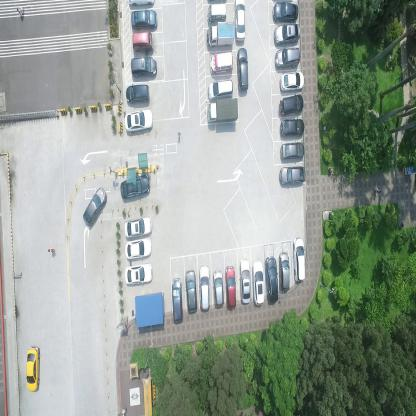car: (82, 184, 107, 226), (207, 97, 239, 123), (120, 173, 151, 199), (124, 214, 153, 239), (125, 109, 153, 134), (26, 344, 40, 392), (265, 256, 279, 304), (206, 23, 234, 46), (125, 261, 153, 284), (125, 235, 153, 258), (292, 236, 306, 282), (207, 77, 234, 100), (273, 22, 300, 44), (185, 268, 198, 313), (274, 46, 300, 68), (278, 164, 306, 184), (279, 93, 303, 116), (210, 51, 234, 74), (252, 260, 264, 306), (278, 70, 303, 92), (131, 10, 158, 30), (130, 57, 157, 77), (236, 47, 248, 91), (280, 138, 304, 160), (240, 257, 251, 305), (125, 84, 150, 104), (225, 265, 236, 310), (272, 1, 298, 20), (279, 117, 304, 136), (200, 264, 210, 311), (172, 276, 182, 323), (213, 268, 224, 310), (234, 1, 245, 42), (279, 251, 290, 292), (206, 3, 227, 24), (132, 33, 154, 53), (128, 0, 155, 8)
